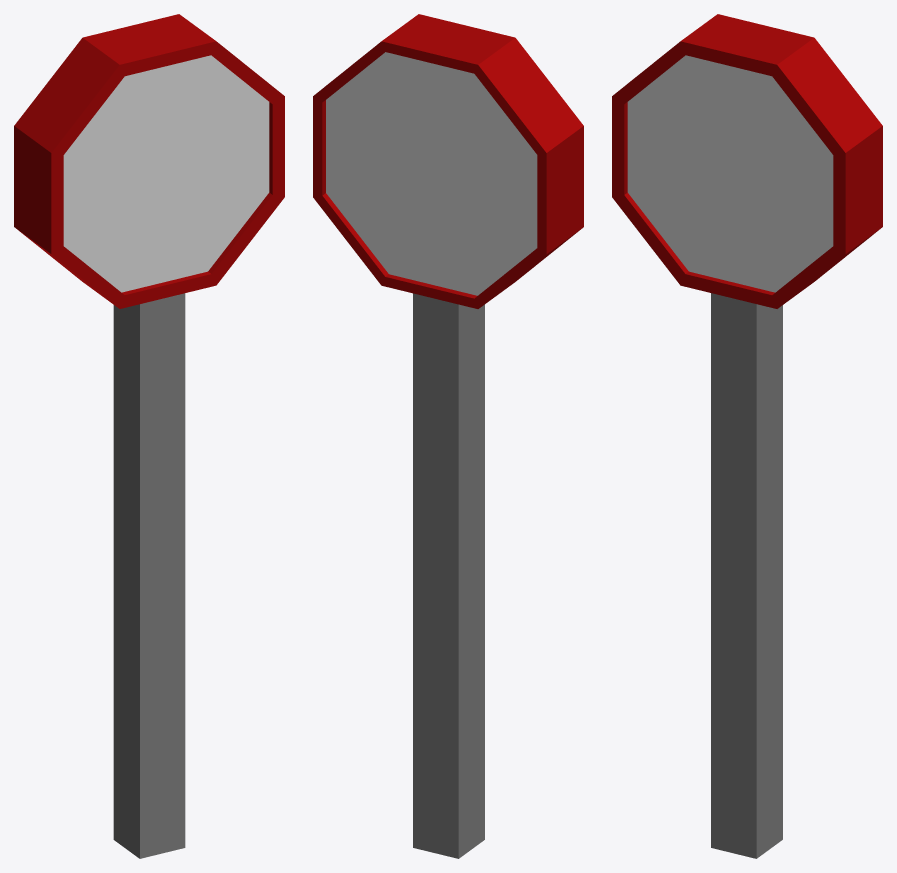
Rendered from Model_BrokenSign.fbx.
3 renders of one model, left to right at view 1: azimuth 30°, elevation 25°; view 2: azimuth 150°, elevation 25°; view 3: azimuth 330°, elevation 25°, orthographic.
Parts seen in each view (by area): view 1: polySurface4, polySurface5; view 2: polySurface4, polySurface5; view 3: polySurface4, polySurface5.
Part boxes in pixels (left/top/right/bottom): polySurface4: left=14, top=14, right=284, bottom=308; polySurface5: left=113, top=293, right=185, bottom=858; polySurface4: left=313, top=14, right=583, bottom=308; polySurface5: left=413, top=293, right=484, bottom=858; polySurface4: left=612, top=14, right=882, bottom=308; polySurface5: left=711, top=293, right=782, bottom=858.
Size of the model in its own units: 1.85 by 6.08 by 0.5111.
